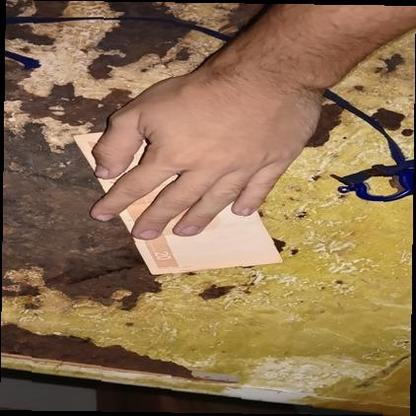twenty-back-vef: (72, 128, 282, 276)
